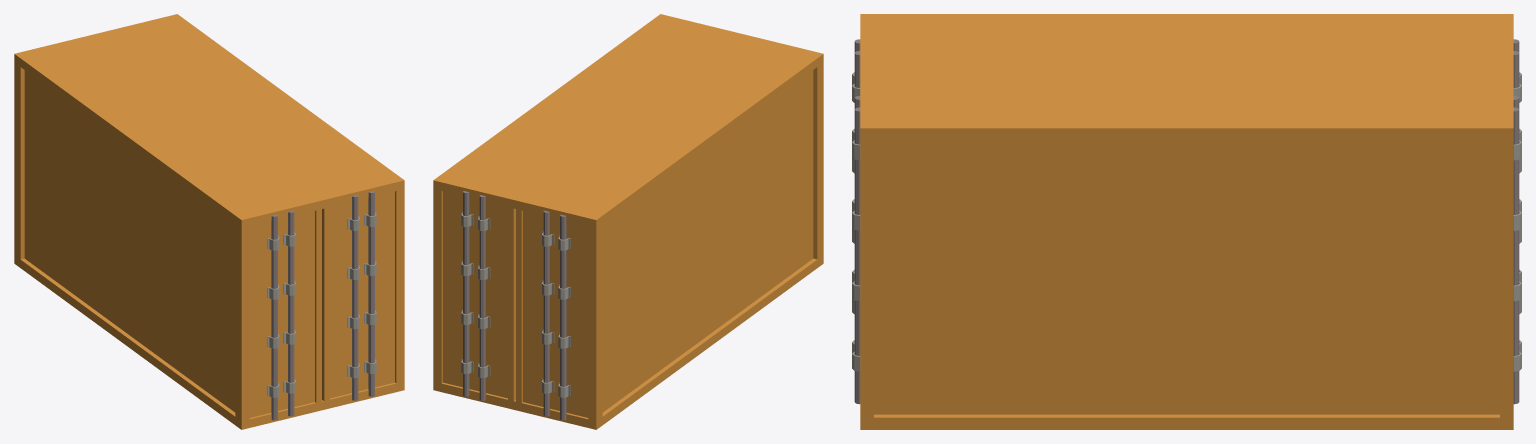
Rendered from container_02.fbx.
3 renders of one model, left to right at view 1: azimuth 30°, elevation 25°; view 2: azimuth 150°, elevation 25°; view 3: azimuth 270°, elevation 25°, orthographic. The views are drawn at different scales.
Visible parts, largest first — view 1: container02; view 2: container02; view 3: container02.
Part boxes in pixels (left/top/right/bottom): container02: left=14, top=14, right=404, bottom=429; container02: left=433, top=14, right=823, bottom=429; container02: left=852, top=14, right=1521, bottom=429.
Bounding box in the file's own units: 138 × 342 × 170.
